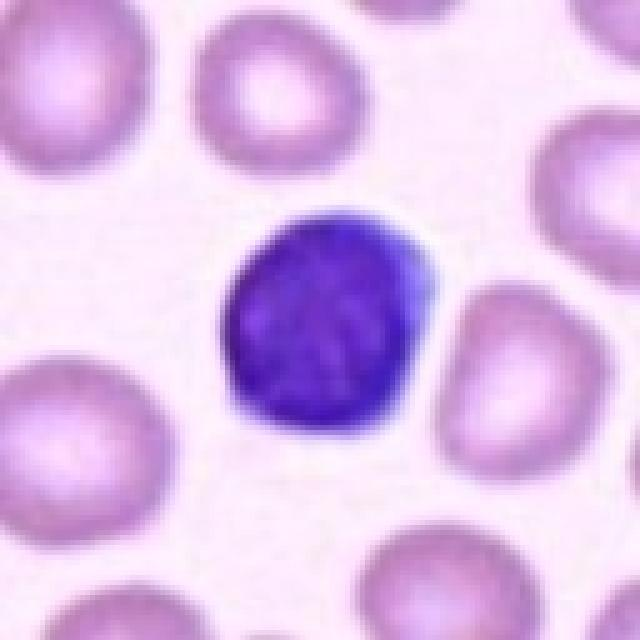lympho: (207, 202, 436, 438)
